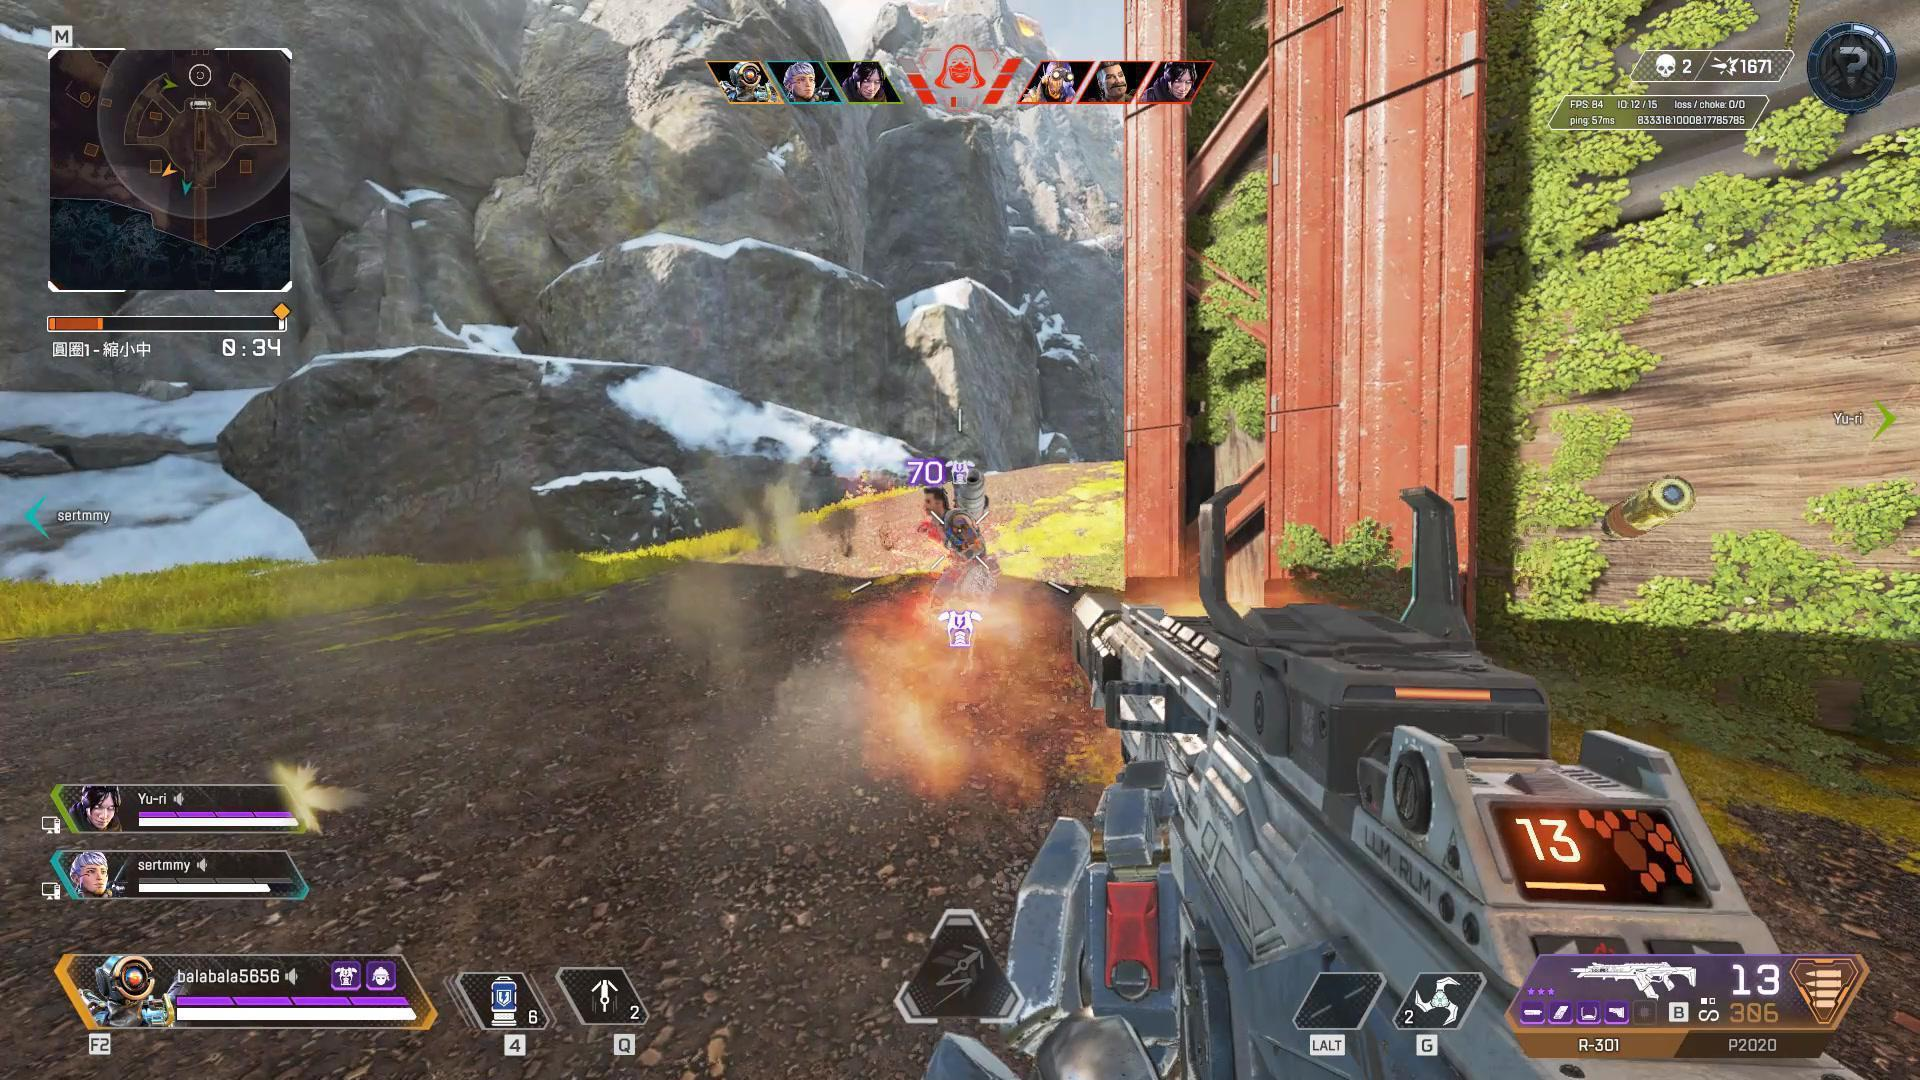avatar: (920, 485, 1003, 610)
